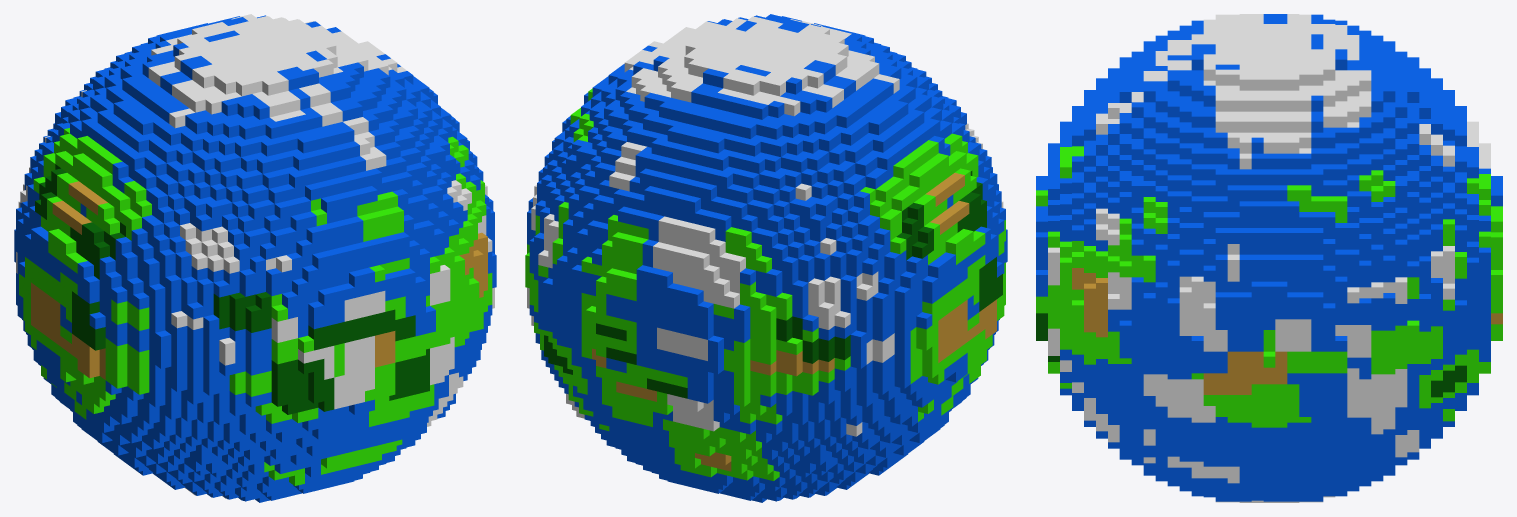
Rendered from earth2.fbx.
3 views of the same model, side by side, from view 1: azimuth 30°, elevation 25°; view 2: azimuth 150°, elevation 25°; view 3: azimuth 270°, elevation 25° (orthographic). The views are drawn at different scales.
Parts seen in each view (by area): view 1: newEarth:Mesh; view 2: newEarth:Mesh; view 3: newEarth:Mesh.
Part boxes in pixels (box(x1,y1,x2,y2)): newEarth:Mesh: box(14, 14, 496, 502); newEarth:Mesh: box(525, 14, 1007, 502); newEarth:Mesh: box(1036, 14, 1502, 502).
Bounding box in the file's own units: 40 × 39 × 39.
Materials: 1 (1 with a texture image).
